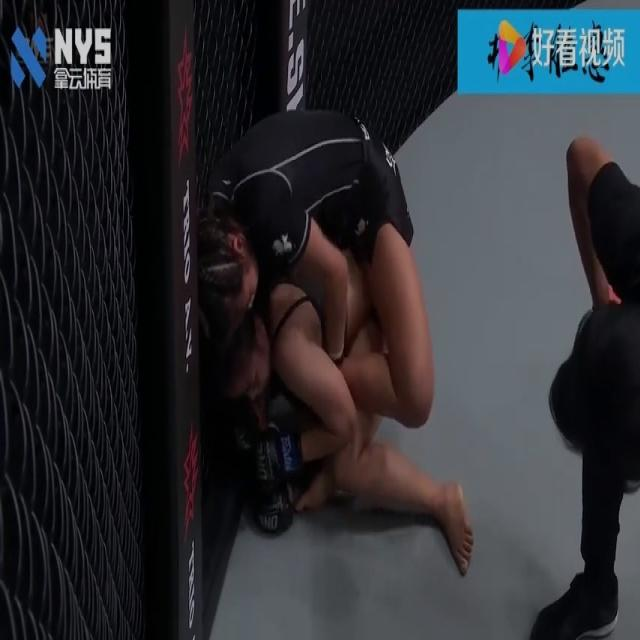fight: (191, 106, 474, 574)
